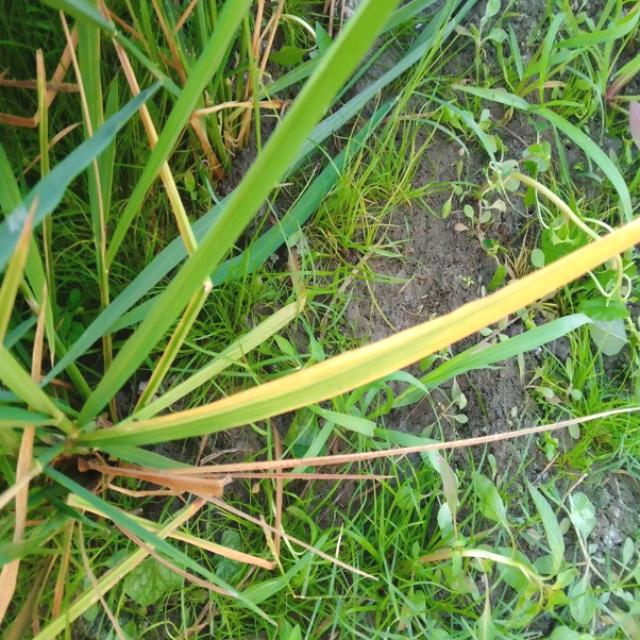Hawar Daun Bakteri: (111, 187, 640, 432)
